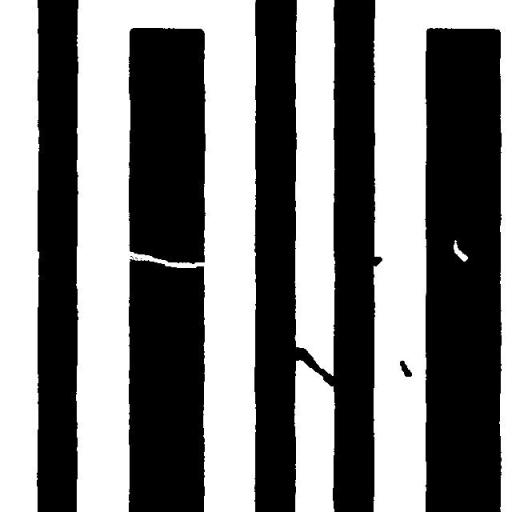copper: (392, 353, 419, 384)
open: (118, 243, 216, 275)
pin-hole: (446, 232, 475, 269)
short: (280, 339, 345, 394)
spur: (360, 248, 390, 274)
